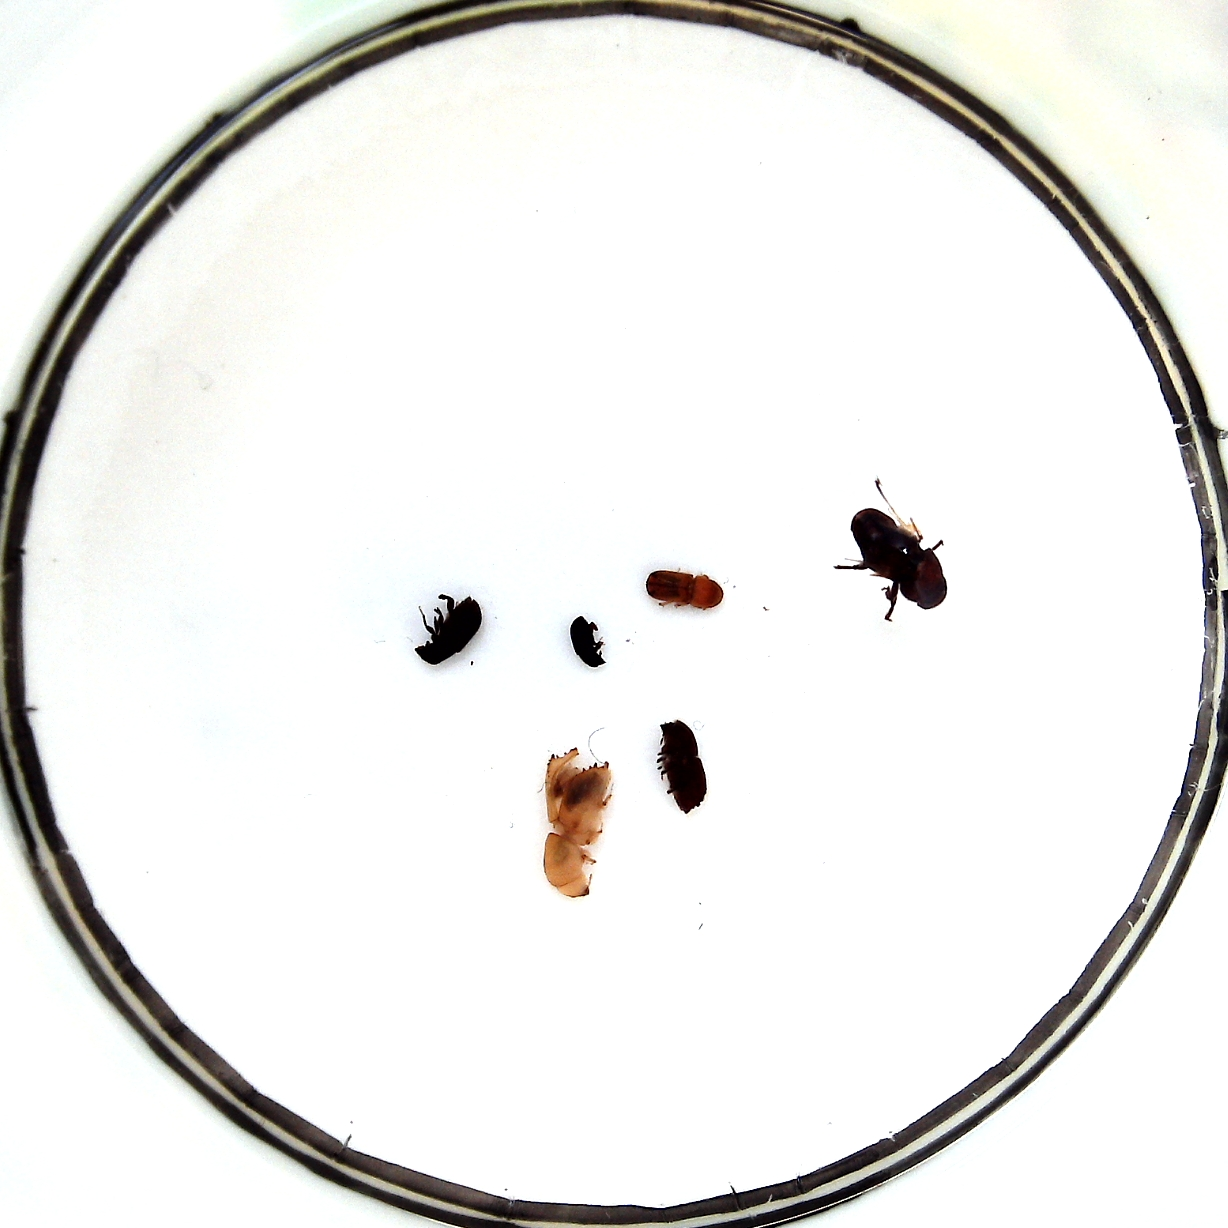Boerner: (542, 747, 611, 899)
Leconte: (851, 507, 947, 610)
acuminatus: (570, 616, 606, 667)
armandi: (415, 596, 480, 665)
linnaeus: (659, 720, 707, 814), (645, 569, 723, 611)
